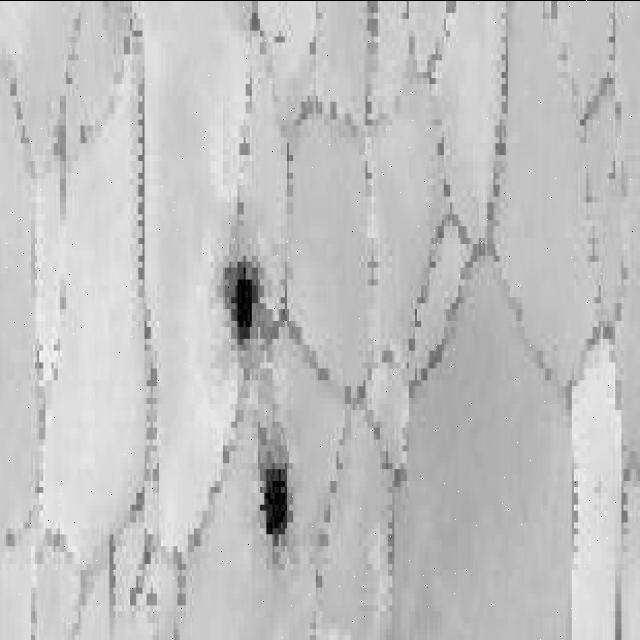good_void: (254, 416, 296, 577), (223, 259, 264, 360)
